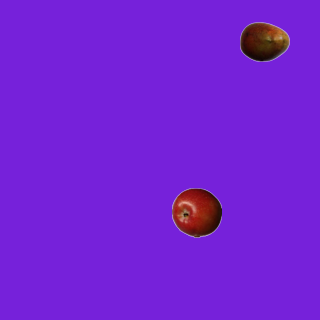Apple Braeburn: (171, 187, 221, 237)
Mango Red: (239, 16, 289, 66)
